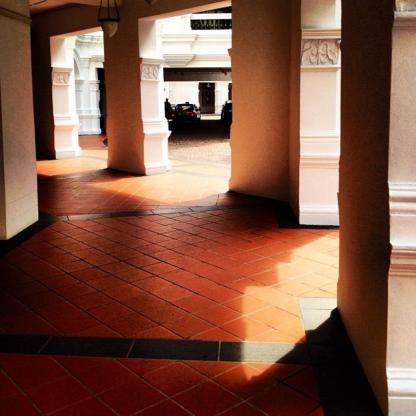Car: (170, 102, 199, 119)
